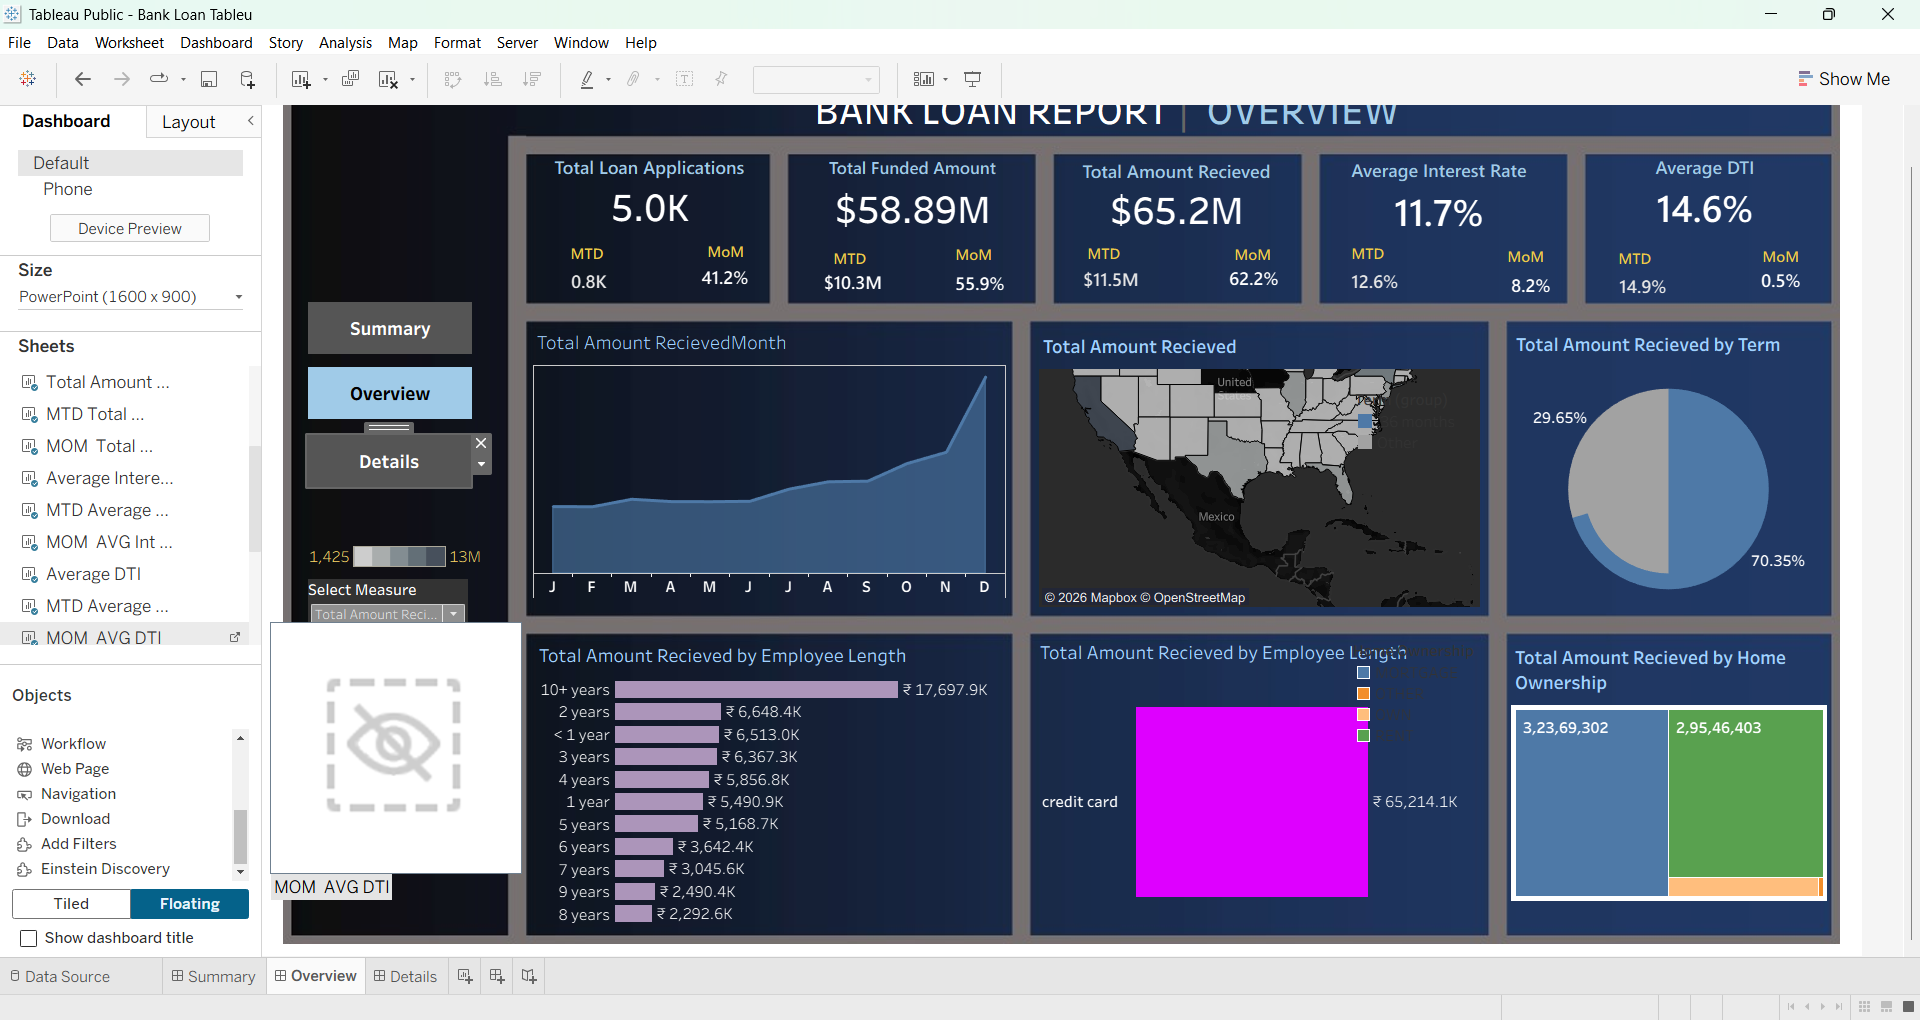

The dashboard page shown, as its layout file describes it:
{"tool":"powerbi","page":{"name":"Overview","canvas":[1280,720],"ordinal":1},"visuals":[{"type":"shape","box":[0,0,1280.3,52.1],"z":0},{"type":"shape","box":[209.1,68.3,199.1,120.2],"z":0,"group":"g1"},{"type":"shape","box":[422.2,68.3,194,120.2],"z":0,"group":"g2"},{"type":"shape","box":[847.1,69.7,192.7,117.5],"z":0,"group":"g4"},{"type":"shape","box":[1053.5,69.7,211.9,117.5],"z":0,"group":"g5"},{"type":"shape","box":[634.3,71.4,190.5,117.2],"z":0,"group":"g3"},{"type":"shape","box":[1031.6,456.4,233.6,233.6],"z":0,"group":"g8"},{"type":"shape","box":[1.4,52.1,192.1,668.3],"z":1000},{"type":"card","fields":{"Values":["bank_loan_data.Total Loan Applications"]},"box":[237.1,75.4,143,65.1],"z":1000,"group":"g1"},{"type":"card","fields":{"Values":["bank_loan_data.TOTAL FUNDED AMOUNT"]},"box":[444.7,81.6,152.1,56.6],"z":1000,"group":"g2"},{"type":"card","fields":{"Values":["bank_loan_data.AVG INTEREST RATE"]},"box":[869.4,82.7,151.1,55.3],"z":1000,"group":"g4"},{"type":"card","fields":{"Values":["bank_loan_data.Total Funded Amount"]},"box":[1078.1,82.7,166.1,55.3],"z":1000,"group":"g5"},{"type":"card","fields":{"Values":["bank_loan_data.TOTAL RECIEVED AMOUNT"]},"box":[656.4,84.3,149.4,55.1],"z":1000,"group":"g3"},{"type":"treemap","fields":{"Values":["bank_loan_data.Total Loan Applications"],"Group":["bank_loan_data.home_ownership"]},"box":[1033.5,462.7,233.6,235],"z":1000,"group":"g8"},{"type":"textbox","box":[628.5,65.6,218.6,35.2],"z":2000,"group":"g3"},{"type":"textbox","box":[209.1,68.3,213.2,39.6],"z":2000,"group":"g1"},{"type":"textbox","box":[422.2,68.3,207.7,39.6],"z":2000,"group":"g2"},{"type":"textbox","box":[847.1,69.7,206.3,38.7],"z":2000,"group":"g4"},{"type":"textbox","box":[1053.5,69.7,226.8,38.7],"z":2000,"group":"g5"},{"type":"textbox","box":[9.6,359.4,206.3,27.3],"z":2000},{"type":"shape","box":[634,464.6,383.9,235],"z":2000,"group":"g9"},{"type":"textbox","box":[440.5,0,481.6,52.1],"z":3000},{"type":"card","title":"MTD","fields":{"Values":["bank_loan_data.MTD AVG INT RATE"]},"box":[847.1,133.3,90.9,45.6],"z":3000,"group":"g4"},{"type":"card","title":"MTD","fields":{"Values":["bank_loan_data.MTD AVG DTI"]},"box":[1053.5,133.3,100,45.6],"z":3000,"group":"g5"},{"type":"card","title":"MTD","fields":{"Values":["bank_loan_data.MTD LOAN APPLICATIONS"]},"box":[209.1,133.4,94,46.7],"z":3000,"group":"g1"},{"type":"card","title":"MTD","fields":{"Values":["bank_loan_data.MTD FUNDED AMOUNT"]},"box":[422.2,133.4,91.5,46.7],"z":3000,"group":"g2"},{"type":"card","title":"MTD","fields":{"Values":["bank_loan_data.MTD TOTAL Recieved  AMOUNT"]},"box":[634.3,134.8,89.9,45.5],"z":3000,"group":"g3"},{"type":"group","id":"g1","title":"Group 1","box":[209.1,68.3,213.2,120.2],"z":4000},{"type":"card","title":"MOM","fields":{"Values":["bank_loan_data.MOM AVG INT T"]},"box":[943.5,131.9,90.9,45.6],"z":4000,"group":"g4"},{"type":"card","title":"MOM","fields":{"Values":["bank_loan_data.MOM AVG DTI"]},"box":[1159.4,131.9,100,45.6],"z":4000,"group":"g5"},{"type":"card","title":"MOM","fields":{"Values":["bank_loan_data.MOM LOAN APPLICATIONS"]},"box":[308.7,132,94,46.7],"z":4000,"group":"g1"},{"type":"card","title":"MOM","fields":{"Values":["bank_loan_data.MOM FUNDED AMOUNT"]},"box":[519.2,132,91.5,46.7],"z":4000,"group":"g2"},{"type":"card","title":"MOM","fields":{"Values":["bank_loan_data.MOM received AMOUNT"]},"box":[729.6,133.4,89.9,45.5],"z":4000,"group":"g3"},{"type":"group","id":"g2","title":"Group 1","box":[422.2,68.3,207.7,120.2],"z":5000},{"type":"group","id":"g3","title":"Group 1","box":[628.5,65.6,218.6,123],"z":6000},{"type":"group","id":"g4","title":"Group 1","box":[847.1,69.7,206.3,117.5],"z":7000},{"type":"group","id":"g5","title":"Group 1","box":[1053.5,69.7,226.8,117.5],"z":8000},{"type":"actionButton","box":[0,0,100,40],"z":9000},{"type":"slicer","fields":{"Values":["bank_loan_data.address_state"]},"box":[9.6,468.7,164,43.7],"z":10000},{"type":"textbox","box":[9.6,442.7,82,69.7],"z":11000},{"type":"textbox","box":[9.6,526,103.8,61.5],"z":12000},{"type":"shape","box":[210.4,211.8,404.4,244.6],"z":13000},{"type":"slicer","fields":{"Values":["bank_loan_data.grade"]},"box":[9.6,552,164,50.6],"z":14000},{"type":"slicer","fields":{"Values":["bank_loan_data.purpose"]},"box":[9.6,639.5,168.8,49.4],"z":15000},{"type":"textbox","box":[15,612.1,84.7,42.4],"z":16000},{"type":"areaChart","fields":{"Y":["bank_loan_data.Total Loan Applications"],"Category":["Date Table.MONTH"]},"box":[214.5,213.2,392.1,243.2],"z":17000},{"type":"slicer","fields":{"Values":["Select Measure.Select Measure"]},"box":[0,386.7,184.5,47.8],"z":18000},{"type":"group","id":"g6","title":"Group 2","box":[1031.6,209.1,233.6,235],"z":19000},{"type":"shape","box":[636.6,213,381.2,236.4],"z":19000,"group":"g7"},{"type":"group","id":"g7","title":"Group 3","box":[636.6,213,381.2,236.4],"z":20000},{"type":"shapeMap","fields":{"Value":["bank_loan_data.Total Loan Applications"],"Category":["bank_loan_data.address_state"]},"box":[641.3,214.7,352.5,230.9],"z":20000,"group":"g7"},{"type":"shape","box":[1031.6,209.1,234,234],"z":21000,"group":"g6"},{"type":"group","id":"g8","title":"Group 4","box":[1031.6,456.4,235.6,241.3],"z":21000},{"type":"donutChart","fields":{"Y":["bank_loan_data.Total Loan Applications"],"Category":["bank_loan_data.term"]},"box":[1034.6,225,225.4,206.3],"z":22000,"group":"g6"},{"type":"group","id":"g9","title":"Group 5","box":[634,464.6,383.9,240.5],"z":22000},{"type":"group","id":"g10","title":"Group 6","box":[201.1,469.3,411.3,230.9],"z":23000},{"type":"shape","box":[201.1,469.3,411.3,230.9],"z":23000,"group":"g10"},{"type":"pageNavigator","box":[6.8,172.2,179,187.2],"z":24000},{"type":"image","box":[13.3,47.1,168.9,105],"z":25000},{"type":"barChart","fields":{"Y":["bank_loan_data.Total Loan Applications"],"Category":["bank_loan_data.emp_length"]},"box":[201.1,469.3,407.2,230.9],"z":25000,"group":"g10"},{"type":"barChart","fields":{"Y":["bank_loan_data.Total Loan Applications"],"Category":["bank_loan_data.purpose"]},"box":[641.4,468.7,369.2,236.4],"z":26000,"group":"g9"}]}

Visuals, with their boxes on the page's 1280x720 design canvas (x1, y1, x2, y2). These are canvas units, not pixel positions in the 1920x1020 screenshot, which may show the page scaled, cropped or inside an application window:
shape: {"x1": 0, "y1": 0, "x2": 1280, "y2": 52}
shape: {"x1": 209, "y1": 68, "x2": 408, "y2": 188}
shape: {"x1": 422, "y1": 68, "x2": 616, "y2": 188}
shape: {"x1": 847, "y1": 70, "x2": 1040, "y2": 187}
shape: {"x1": 1054, "y1": 70, "x2": 1265, "y2": 187}
shape: {"x1": 634, "y1": 71, "x2": 825, "y2": 189}
shape: {"x1": 1032, "y1": 456, "x2": 1265, "y2": 690}
shape: {"x1": 1, "y1": 52, "x2": 194, "y2": 720}
card - bank_loan_data.Total Loan Applications: {"x1": 237, "y1": 75, "x2": 380, "y2": 140}
card - bank_loan_data.TOTAL FUNDED AMOUNT: {"x1": 445, "y1": 82, "x2": 597, "y2": 138}
card - bank_loan_data.AVG INTEREST RATE: {"x1": 869, "y1": 83, "x2": 1020, "y2": 138}
card - bank_loan_data.Total Funded Amount: {"x1": 1078, "y1": 83, "x2": 1244, "y2": 138}
card - bank_loan_data.TOTAL RECIEVED AMOUNT: {"x1": 656, "y1": 84, "x2": 806, "y2": 139}
treemap - bank_loan_data.Total Loan Applications x bank_loan_data.home_ownership: {"x1": 1034, "y1": 463, "x2": 1267, "y2": 698}
textbox: {"x1": 628, "y1": 66, "x2": 847, "y2": 101}
textbox: {"x1": 209, "y1": 68, "x2": 422, "y2": 108}
textbox: {"x1": 422, "y1": 68, "x2": 630, "y2": 108}
textbox: {"x1": 847, "y1": 70, "x2": 1053, "y2": 108}
textbox: {"x1": 1054, "y1": 70, "x2": 1280, "y2": 108}
textbox: {"x1": 10, "y1": 359, "x2": 216, "y2": 387}
shape: {"x1": 634, "y1": 465, "x2": 1018, "y2": 700}
textbox: {"x1": 440, "y1": 0, "x2": 922, "y2": 52}
"MTD" card: {"x1": 847, "y1": 133, "x2": 938, "y2": 179}
"MTD" card: {"x1": 1054, "y1": 133, "x2": 1154, "y2": 179}
"MTD" card: {"x1": 209, "y1": 133, "x2": 303, "y2": 180}
"MTD" card: {"x1": 422, "y1": 133, "x2": 514, "y2": 180}
"MTD" card: {"x1": 634, "y1": 135, "x2": 724, "y2": 180}
"Group 1" group: {"x1": 209, "y1": 68, "x2": 422, "y2": 188}
"MOM" card: {"x1": 944, "y1": 132, "x2": 1034, "y2": 178}
"MOM" card: {"x1": 1159, "y1": 132, "x2": 1259, "y2": 178}
"MOM" card: {"x1": 309, "y1": 132, "x2": 403, "y2": 179}
"MOM" card: {"x1": 519, "y1": 132, "x2": 611, "y2": 179}
"MOM" card: {"x1": 730, "y1": 133, "x2": 820, "y2": 179}
"Group 1" group: {"x1": 422, "y1": 68, "x2": 630, "y2": 188}
"Group 1" group: {"x1": 628, "y1": 66, "x2": 847, "y2": 189}
"Group 1" group: {"x1": 847, "y1": 70, "x2": 1053, "y2": 187}
"Group 1" group: {"x1": 1054, "y1": 70, "x2": 1280, "y2": 187}
actionButton: {"x1": 0, "y1": 0, "x2": 100, "y2": 40}
slicer - bank_loan_data.address_state: {"x1": 10, "y1": 469, "x2": 174, "y2": 512}
textbox: {"x1": 10, "y1": 443, "x2": 92, "y2": 512}
textbox: {"x1": 10, "y1": 526, "x2": 113, "y2": 588}
shape: {"x1": 210, "y1": 212, "x2": 615, "y2": 456}
slicer - bank_loan_data.grade: {"x1": 10, "y1": 552, "x2": 174, "y2": 603}
slicer - bank_loan_data.purpose: {"x1": 10, "y1": 640, "x2": 178, "y2": 689}
textbox: {"x1": 15, "y1": 612, "x2": 100, "y2": 654}
areaChart - bank_loan_data.Total Loan Applications x Date Table.MONTH: {"x1": 214, "y1": 213, "x2": 607, "y2": 456}
slicer - Select Measure.Select Measure: {"x1": 0, "y1": 387, "x2": 184, "y2": 434}
"Group 2" group: {"x1": 1032, "y1": 209, "x2": 1265, "y2": 444}
shape: {"x1": 637, "y1": 213, "x2": 1018, "y2": 449}
"Group 3" group: {"x1": 637, "y1": 213, "x2": 1018, "y2": 449}
shapeMap - bank_loan_data.Total Loan Applications x bank_loan_data.address_state: {"x1": 641, "y1": 215, "x2": 994, "y2": 446}
shape: {"x1": 1032, "y1": 209, "x2": 1266, "y2": 443}
"Group 4" group: {"x1": 1032, "y1": 456, "x2": 1267, "y2": 698}
donutChart - bank_loan_data.Total Loan Applications x bank_loan_data.term: {"x1": 1035, "y1": 225, "x2": 1260, "y2": 431}
"Group 5" group: {"x1": 634, "y1": 465, "x2": 1018, "y2": 705}
"Group 6" group: {"x1": 201, "y1": 469, "x2": 612, "y2": 700}
shape: {"x1": 201, "y1": 469, "x2": 612, "y2": 700}
pageNavigator: {"x1": 7, "y1": 172, "x2": 186, "y2": 359}
image: {"x1": 13, "y1": 47, "x2": 182, "y2": 152}
barChart - bank_loan_data.Total Loan Applications x bank_loan_data.emp_length: {"x1": 201, "y1": 469, "x2": 608, "y2": 700}
barChart - bank_loan_data.Total Loan Applications x bank_loan_data.purpose: {"x1": 641, "y1": 469, "x2": 1011, "y2": 705}
